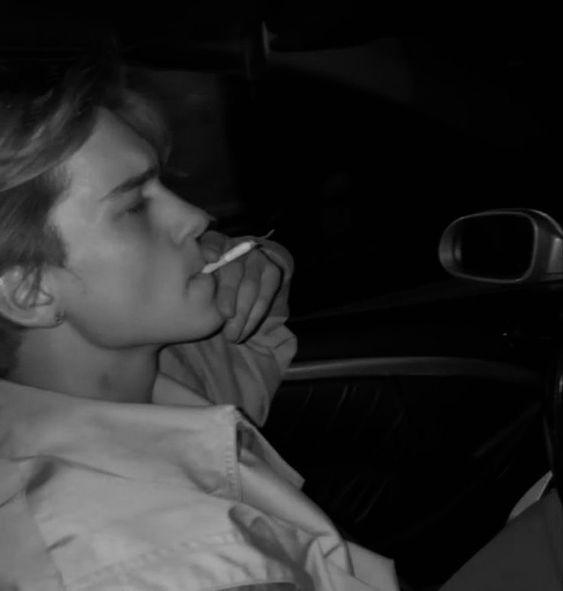cigarette: (199, 239, 257, 274)
